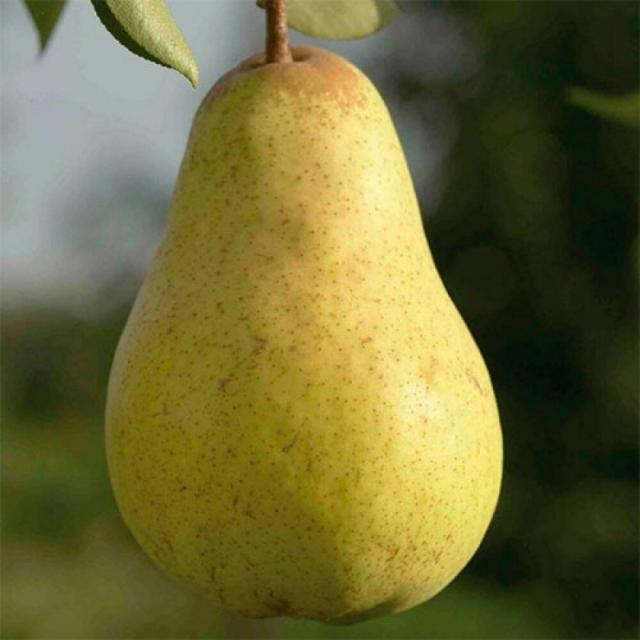pear: (100, 44, 508, 624)
